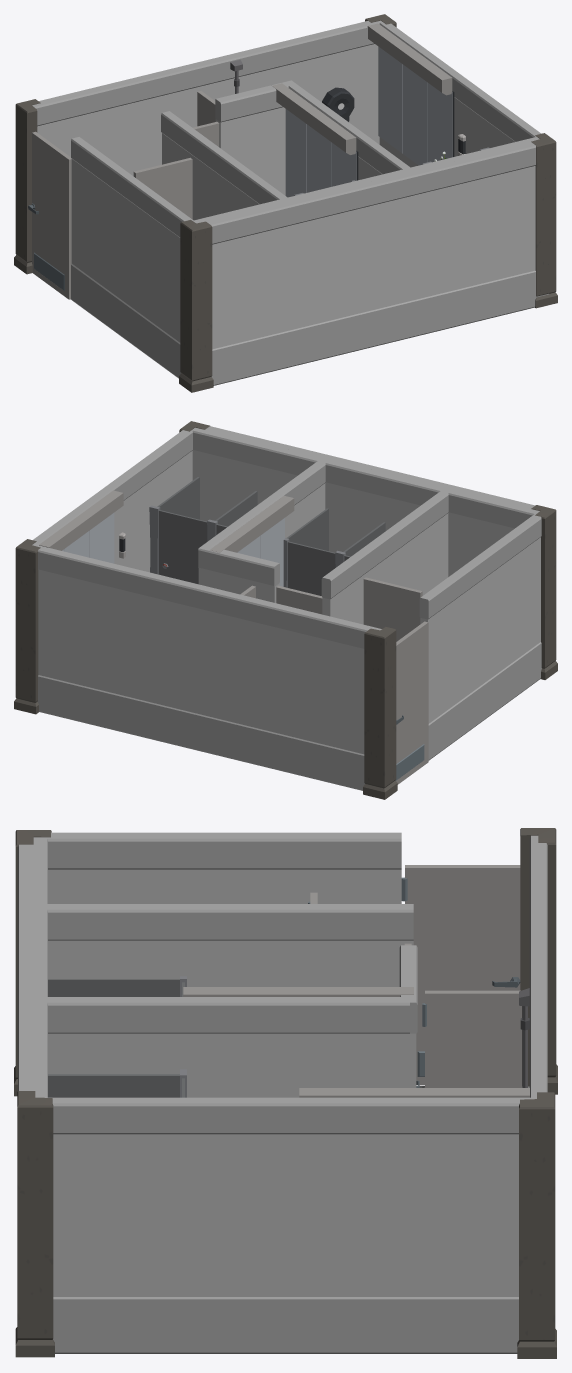
The model's file is Bathroom.fbx.
3 views of the same model, one above another, from view 1: azimuth 30°, elevation 25°; view 2: azimuth 150°, elevation 25°; view 3: azimuth 270°, elevation 25° (orthographic). The views are drawn at different scales.
Parts seen in each view (by area): view 1: SM_Bld_Wall_Baseboard_01__52_, SM_Bld_Wall_Baseboard_01__56_, SM_Bld_Wall_Baseboard_01__54_, SM_Bld_Wall_Baseboard_01__84_, SM_Bld_Wall_Baseboard_01__64_, SM_Bld_Wall_Baseboard_01__65_, SM_Bld_Wall_Baseboard_01__69_, SM_Prop_Bathroom_Mirror_01__1_, SM_Bld_Door_02__4_, SM_Bld_Pillar_Exterior_04__13_, SM_Bld_Wall_Baseboard_01__67_, SM_Prop_Bathroom_Mirror_01__2_ (+25 smaller); view 2: SM_Bld_Wall_Baseboard_01__70_, SM_Bld_Wall_Baseboard_01__66_, SM_Bld_Wall_Baseboard_01__68_, SM_Bld_Wall_Baseboard_01__84_, SM_Bld_Wall_Baseboard_01__49_, SM_Bld_Wall_Baseboard_01__64_, SM_Bld_Wall_Baseboard_01__50_, SM_Bld_Wall_Baseboard_01__72_, SM_Bld_Pillar_Exterior_04__15_, SM_Bld_Wall_Baseboard_01__62_, SM_Bld_Door_02__4_, SM_Bld_Wall_Baseboard_01__57_ (+24 smaller); view 3: SM_Bld_Wall_Baseboard_01__71_, SM_Bld_Wall_Baseboard_01__73_, SM_Bld_Wall_Baseboard_01__75_, SM_Bld_Wall_Baseboard_01__59_, SM_Bld_Wall_Baseboard_01__61_, SM_Bld_Wall_Baseboard_01__63_, SM_Bld_Door_02__4_, SM_Bld_Wall_Baseboard_01__77_, SM_Bld_Wall_Baseboard_01__81_, SM_Bld_Pillar_Exterior_04__12_, SM_Bld_Pillar_Exterior_04__14_, SM_Bld_Door_02__7_ (+26 smaller).
Boxes of the visible parts, x1=… form: SM_Bld_Wall_Baseboard_01__52_: x1=416, y1=142, x2=548, y2=335; SM_Bld_Wall_Baseboard_01__56_: x1=206, y1=194, x2=323, y2=385; SM_Bld_Wall_Baseboard_01__54_: x1=300, y1=169, x2=430, y2=363; SM_Bld_Wall_Baseboard_01__84_: x1=71, y1=137, x2=153, y2=354; SM_Bld_Wall_Baseboard_01__64_: x1=111, y1=166, x2=193, y2=378; SM_Bld_Wall_Baseboard_01__65_: x1=34, y1=76, x2=158, y2=175; SM_Bld_Wall_Baseboard_01__69_: x1=257, y1=21, x2=380, y2=144; SM_Prop_Bathroom_Mirror_01__1_: x1=378, y1=46, x2=454, y2=165; SM_Bld_Door_02__4_: x1=28, y1=131, x2=71, y2=299; SM_Bld_Pillar_Exterior_04__13_: x1=179, y1=220, x2=213, y2=392; SM_Bld_Wall_Baseboard_01__67_: x1=154, y1=43, x2=285, y2=165; SM_Prop_Bathroom_Mirror_01__2_: x1=285, y1=109, x2=358, y2=197; SM_Bld_Wall_Baseboard_01__70_: x1=35, y1=545, x2=153, y2=739; SM_Bld_Wall_Baseboard_01__66_: x1=252, y1=599, x2=381, y2=790; SM_Bld_Wall_Baseboard_01__68_: x1=126, y1=568, x2=256, y2=764; SM_Bld_Wall_Baseboard_01__84_: x1=420, y1=545, x2=502, y2=760; SM_Bld_Wall_Baseboard_01__49_: x1=192, y1=427, x2=321, y2=521; SM_Bld_Wall_Baseboard_01__64_: x1=469, y1=517, x2=541, y2=706; SM_Bld_Wall_Baseboard_01__50_: x1=307, y1=456, x2=435, y2=552; SM_Bld_Wall_Baseboard_01__72_: x1=111, y1=430, x2=192, y2=572; SM_Bld_Pillar_Exterior_04__15_: x1=363, y1=627, x2=397, y2=799; SM_Bld_Wall_Baseboard_01__62_: x1=367, y1=491, x2=448, y2=595; SM_Bld_Door_02__4_: x1=395, y1=621, x2=428, y2=784; SM_Bld_Wall_Baseboard_01__57_: x1=414, y1=481, x2=539, y2=576; SM_Bld_Wall_Baseboard_01__71_: x1=47, y1=1097, x2=275, y2=1353; SM_Bld_Wall_Baseboard_01__73_: x1=200, y1=1097, x2=430, y2=1353; SM_Bld_Wall_Baseboard_01__75_: x1=314, y1=1097, x2=536, y2=1353; SM_Bld_Wall_Baseboard_01__59_: x1=46, y1=997, x2=276, y2=1097; SM_Bld_Wall_Baseboard_01__61_: x1=46, y1=904, x2=276, y2=986; SM_Bld_Wall_Baseboard_01__63_: x1=46, y1=832, x2=276, y2=903; SM_Bld_Door_02__4_: x1=401, y1=865, x2=520, y2=1085; SM_Bld_Wall_Baseboard_01__77_: x1=179, y1=997, x2=409, y2=1097; SM_Bld_Wall_Baseboard_01__81_: x1=183, y1=904, x2=413, y2=986; SM_Bld_Pillar_Exterior_04__12_: x1=15, y1=1091, x2=54, y2=1357; SM_Bld_Pillar_Exterior_04__14_: x1=517, y1=1092, x2=556, y2=1358; SM_Bld_Door_02__7_: x1=422, y1=990, x2=521, y2=1087.
Bounding box in the file's own units: 721 × 318 × 590.
3 materials, 2 textured.
